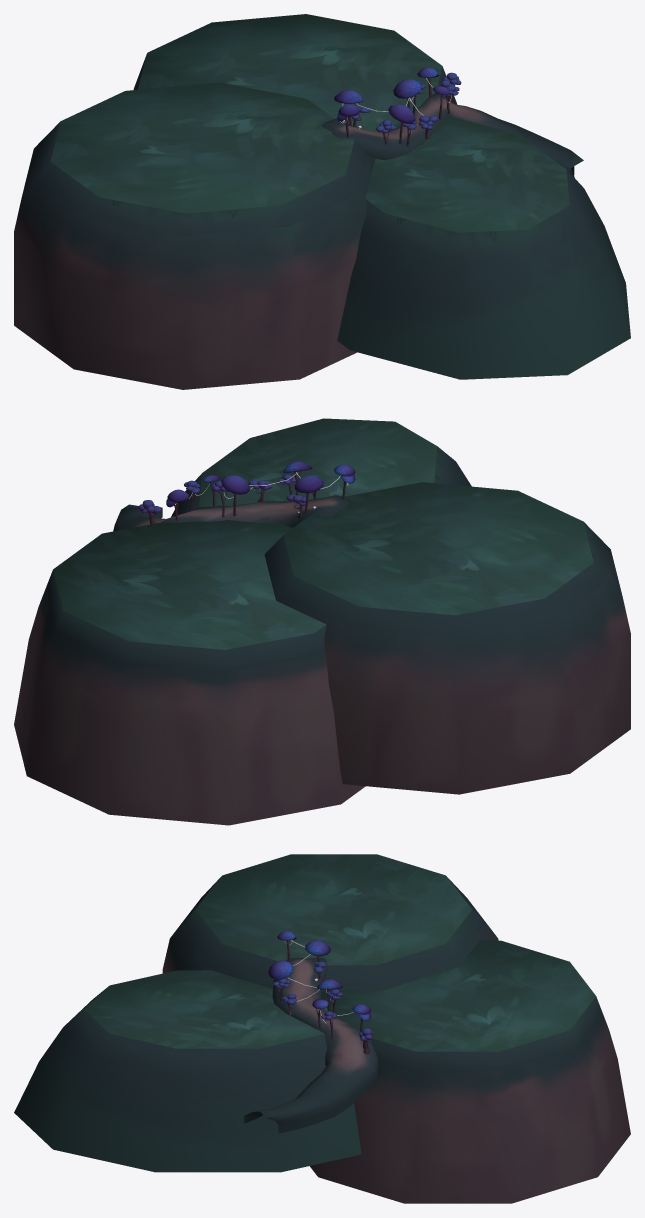
File: Path_Ground 1.fbx
The picture shows the model from 3 angles, top to bottom: view 1: azimuth 30°, elevation 25°; view 2: azimuth 150°, elevation 25°; view 3: azimuth 270°, elevation 25°; orthographic projection. The views are drawn at different scales.
Parts seen in each view (by area): view 1: Path_Ground1, Path_Ground3, Path_Ground2, Path_Ground0; view 2: Path_Ground1, Path_Ground2, Path_Ground3, Path_Ground0; view 3: Path_Ground2, Path_Ground3, Path_Ground1, Path_Ground0.
Part boxes in pixels (x1=…): Path_Ground1: x1=14, y1=82, x2=375, y2=389; Path_Ground3: x1=337, y1=116, x2=630, y2=379; Path_Ground2: x1=133, y1=14, x2=457, y2=132; Path_Ground0: x1=320, y1=93, x2=583, y2=177; Path_Ground1: x1=264, y1=482, x2=630, y2=794; Path_Ground2: x1=14, y1=520, x2=365, y2=825; Path_Ground3: x1=171, y1=418, x2=471, y2=522; Path_Ground0: x1=113, y1=495, x2=348, y2=531; Path_Ground2: x1=310, y1=940, x2=630, y2=1203; Path_Ground3: x1=14, y1=970, x2=361, y2=1172; Path_Ground1: x1=162, y1=854, x2=498, y2=992; Path_Ground0: x1=244, y1=957, x2=378, y2=1133.
Bounding box in the file's own units: 395 × 158 × 475.
